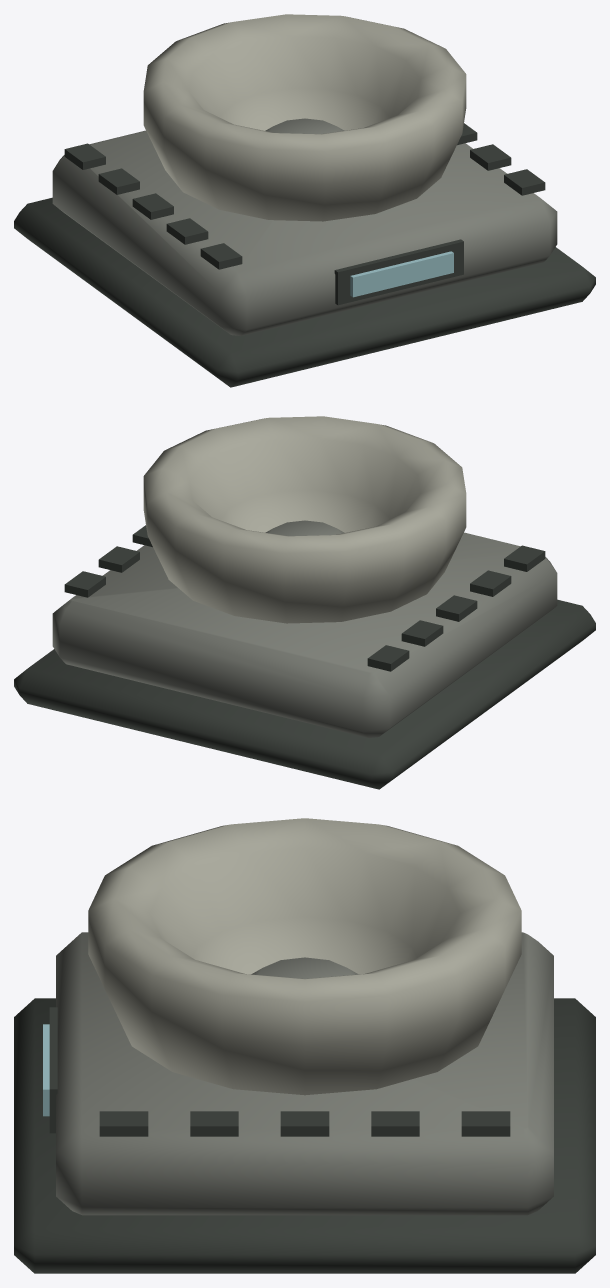
The model's file is signal_jammer.obj.
3 renders of one model, top to bottom at view 1: azimuth 30°, elevation 25°; view 2: azimuth 150°, elevation 25°; view 3: azimuth 270°, elevation 25°, orthographic. The views are drawn at different scales.
Visible parts, largest first — view 1: source_component_002, source_component_001, source_component_000, source_component_014, source_component_015, source_component_003, source_component_004, source_component_005, source_component_007, source_component_006, source_component_009, source_component_010 (+1 smaller); view 2: source_component_002, source_component_001, source_component_000, source_component_003, source_component_008, source_component_007, source_component_005, source_component_006, source_component_013, source_component_012, source_component_004; view 3: source_component_002, source_component_001, source_component_000, source_component_003, source_component_009, source_component_011, source_component_013, source_component_010, source_component_012, source_component_014, source_component_015.
Part boxes in pixels (left/top/right/bottom): source_component_002: left=143, top=14, right=466, bottom=221; source_component_001: left=52, top=130, right=557, bottom=335; source_component_000: left=14, top=197, right=595, bottom=387; source_component_014: left=334, top=239, right=463, bottom=305; source_component_015: left=350, top=251, right=453, bottom=297; source_component_003: left=265, top=118, right=344, bottom=134; source_component_004: left=200, top=243, right=242, bottom=269; source_component_005: left=166, top=218, right=208, bottom=244; source_component_007: left=98, top=168, right=139, bottom=194; source_component_006: left=132, top=193, right=173, bottom=219; source_component_009: left=504, top=169, right=545, bottom=195; source_component_010: left=470, top=144, right=511, bottom=170; source_component_002: left=143, top=416, right=466, bottom=623; source_component_001: left=52, top=532, right=557, bottom=737; source_component_000: left=14, top=599, right=595, bottom=789; source_component_003: left=265, top=520, right=344, bottom=536; source_component_008: left=367, top=645, right=409, bottom=671; source_component_007: left=401, top=620, right=443, bottom=646; source_component_005: left=470, top=570, right=511, bottom=596; source_component_006: left=436, top=595, right=477, bottom=621; source_component_013: left=64, top=571, right=105, bottom=597; source_component_012: left=98, top=546, right=139, bottom=572; source_component_004: left=504, top=545, right=545, bottom=571; source_component_002: left=88, top=818, right=521, bottom=1095; source_component_001: left=56, top=932, right=553, bottom=1215; source_component_000: left=14, top=998, right=595, bottom=1273; source_component_003: left=251, top=957, right=358, bottom=978; source_component_009: left=99, top=1111, right=148, bottom=1136; source_component_011: left=280, top=1111, right=329, bottom=1136; source_component_013: left=461, top=1111, right=510, bottom=1136; source_component_010: left=190, top=1111, right=238, bottom=1136; source_component_012: left=371, top=1111, right=419, bottom=1136; source_component_014: left=49, top=1007, right=57, bottom=1133; source_component_015: left=43, top=1024, right=49, bottom=1116.
Size of the model in its own units: 1.8 by 0.89 by 1.8.
